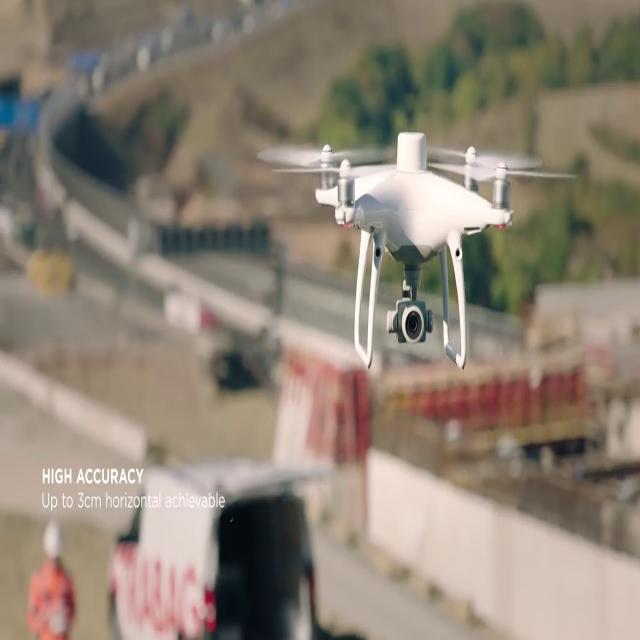drone: (253, 127, 582, 377)
